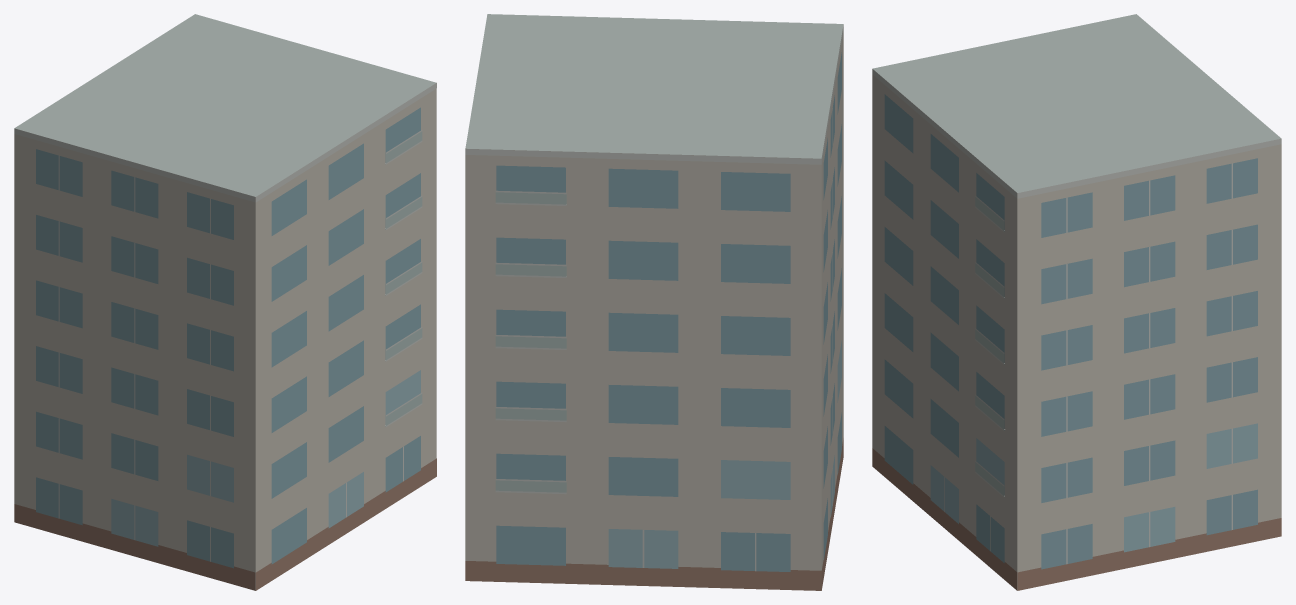
Rendered from survey-upis-32746435.glb.
The picture shows the model from 3 angles, left to right: view 1: azimuth 30°, elevation 25°; view 2: azimuth 150°, elevation 25°; view 3: azimuth 270°, elevation 25°; orthographic projection. The views are drawn at different scales.
Parts seen in each view (by area): view 1: survey-upis-32746435.tmp; view 2: survey-upis-32746435.tmp; view 3: survey-upis-32746435.tmp.
Boxes of the visible parts, left/top/right/bottom form: survey-upis-32746435.tmp: left=14, top=14, right=436, bottom=590; survey-upis-32746435.tmp: left=465, top=14, right=843, bottom=590; survey-upis-32746435.tmp: left=872, top=14, right=1281, bottom=590.
Size of the model in its own units: 16.62 by 17.2 by 16.05.
